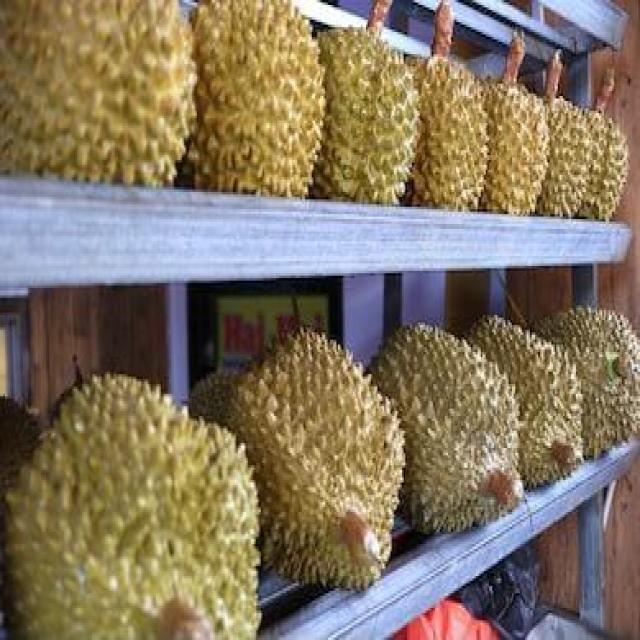mature: (231, 332, 404, 590), (370, 326, 522, 533), (188, 0, 325, 196), (469, 317, 582, 488), (312, 30, 419, 203), (537, 308, 640, 457), (411, 56, 488, 209), (480, 81, 549, 213), (538, 98, 590, 217), (579, 111, 628, 220)
